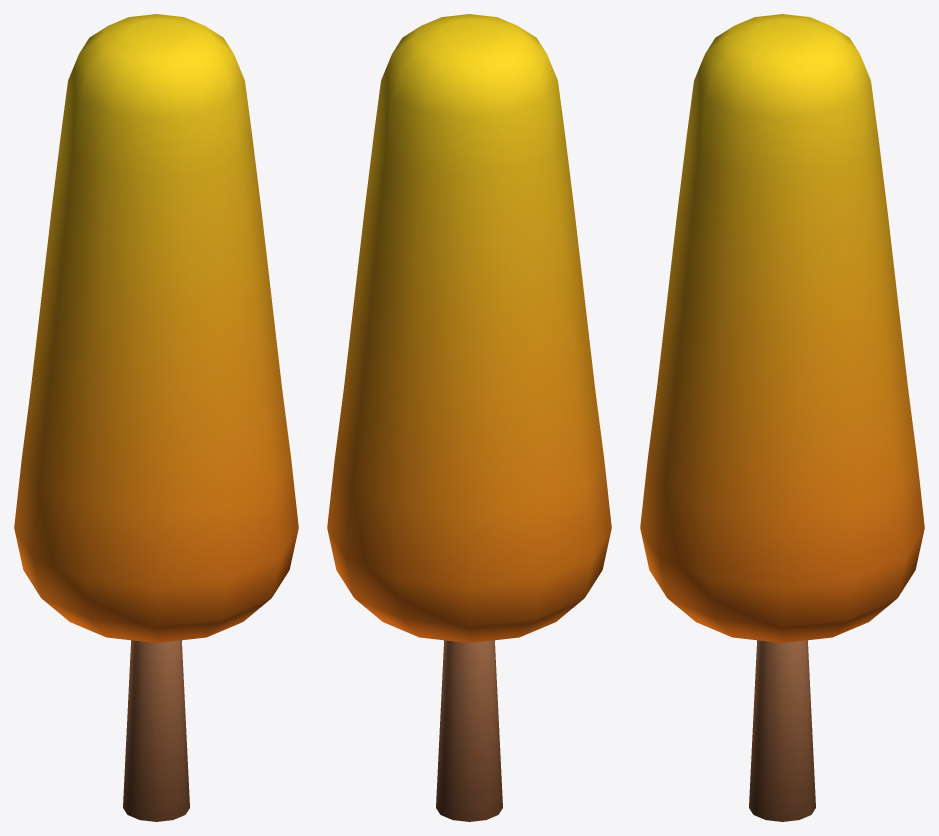
Rendered from lpb_tree_7_b.fbx.
3 views of the same model, side by side, from view 1: azimuth 30°, elevation 25°; view 2: azimuth 150°, elevation 25°; view 3: azimuth 270°, elevation 25° (orthographic).
Visible parts, largest first — view 1: ap_tree_7.001; view 2: ap_tree_7.001; view 3: ap_tree_7.001.
Part boxes in pixels (x1=…): ap_tree_7.001: x1=14, y1=14, x2=298, y2=821; ap_tree_7.001: x1=327, y1=14, x2=611, y2=821; ap_tree_7.001: x1=640, y1=14, x2=924, y2=821.
Size of the model in its own units: 171 by 514 by 171.
